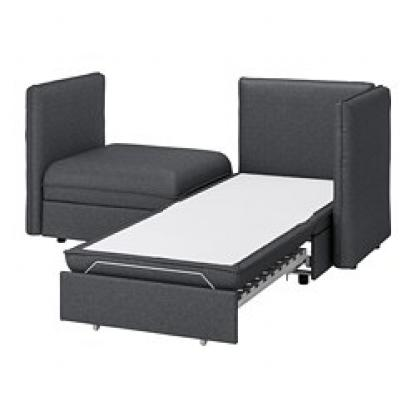Sofa: (18, 47, 393, 351)
